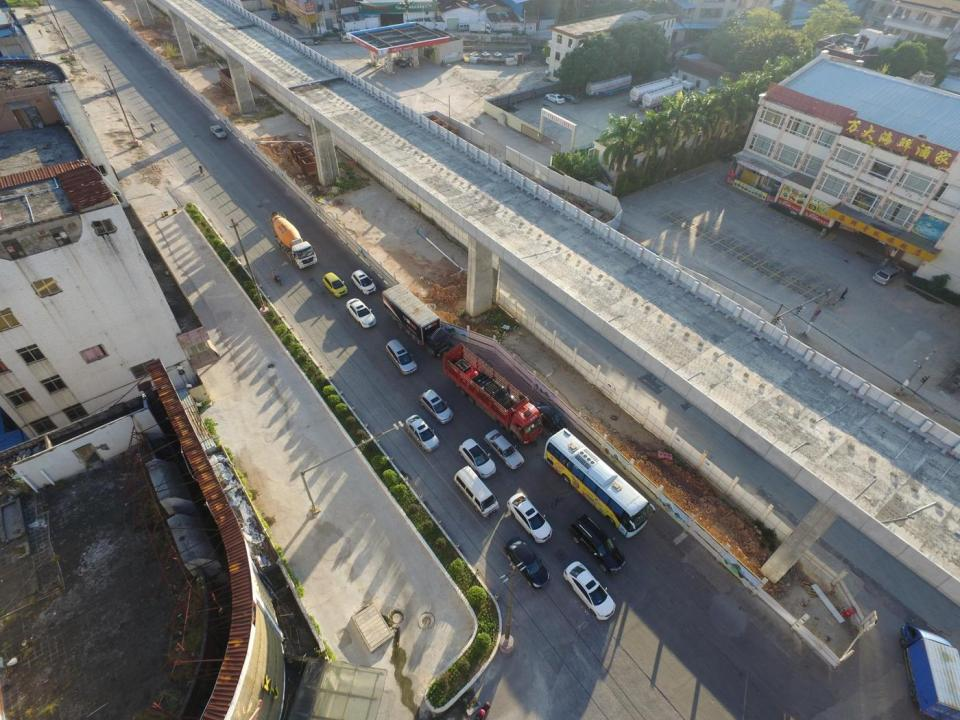bus: (543, 423, 658, 538)
car: (568, 510, 627, 574), (563, 558, 617, 622), (503, 536, 551, 591), (505, 490, 553, 545), (454, 436, 496, 478), (484, 427, 524, 470), (404, 412, 440, 454), (419, 386, 455, 426), (385, 334, 418, 376), (344, 295, 376, 330), (321, 268, 346, 297), (350, 266, 375, 294), (872, 264, 905, 285), (208, 124, 227, 140), (544, 91, 564, 104), (561, 92, 578, 104), (393, 57, 405, 68), (270, 12, 279, 21)
truck: (441, 340, 543, 441), (896, 618, 960, 720), (380, 281, 452, 359), (266, 205, 319, 269), (641, 79, 695, 114), (626, 75, 685, 107), (585, 70, 640, 98)
van: (453, 464, 497, 518)
